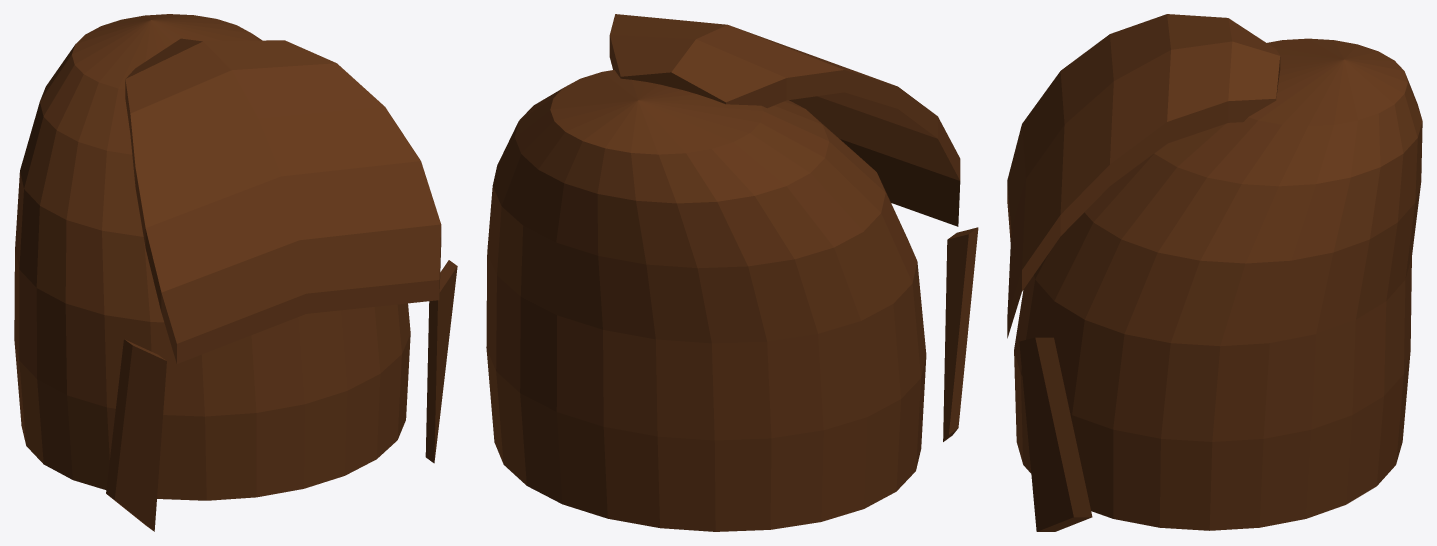
File: hair_boy_pompadour_01.glb
3 views of the same model, side by side, from view 1: azimuth 30°, elevation 25°; view 2: azimuth 150°, elevation 25°; view 3: azimuth 270°, elevation 25° (orthographic). The views are drawn at different scales.
Parts seen in each view (by area): view 1: Pompadour_Cap, Pompadour_Front_Sweep, Pompadour_Side_Lock_L, Pompadour_Side_Lock_R; view 2: Pompadour_Cap, Pompadour_Front_Sweep, Pompadour_Side_Lock_L; view 3: Pompadour_Cap, Pompadour_Front_Sweep, Pompadour_Side_Lock_R.
Part boxes in pixels (left/top/right/bottom): Pompadour_Cap: left=14, top=14, right=410, bottom=500; Pompadour_Front_Sweep: left=125, top=38, right=441, bottom=363; Pompadour_Side_Lock_L: left=106, top=339, right=166, bottom=531; Pompadour_Side_Lock_R: left=425, top=260, right=457, bottom=463; Pompadour_Cap: left=486, top=70, right=926, bottom=531; Pompadour_Front_Sweep: left=609, top=14, right=960, bottom=226; Pompadour_Side_Lock_L: left=943, top=227, right=978, bottom=441; Pompadour_Cap: left=1014, top=38, right=1422, bottom=530; Pompadour_Front_Sweep: left=1007, top=14, right=1280, bottom=338; Pompadour_Side_Lock_R: left=1019, top=337, right=1092, bottom=531.
Size of the model in its own units: 0.326 by 0.346 by 0.312.
